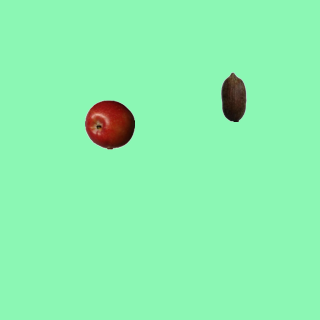Apple Braeburn: (84, 99, 134, 149)
Nut Pecan: (208, 71, 258, 121)
